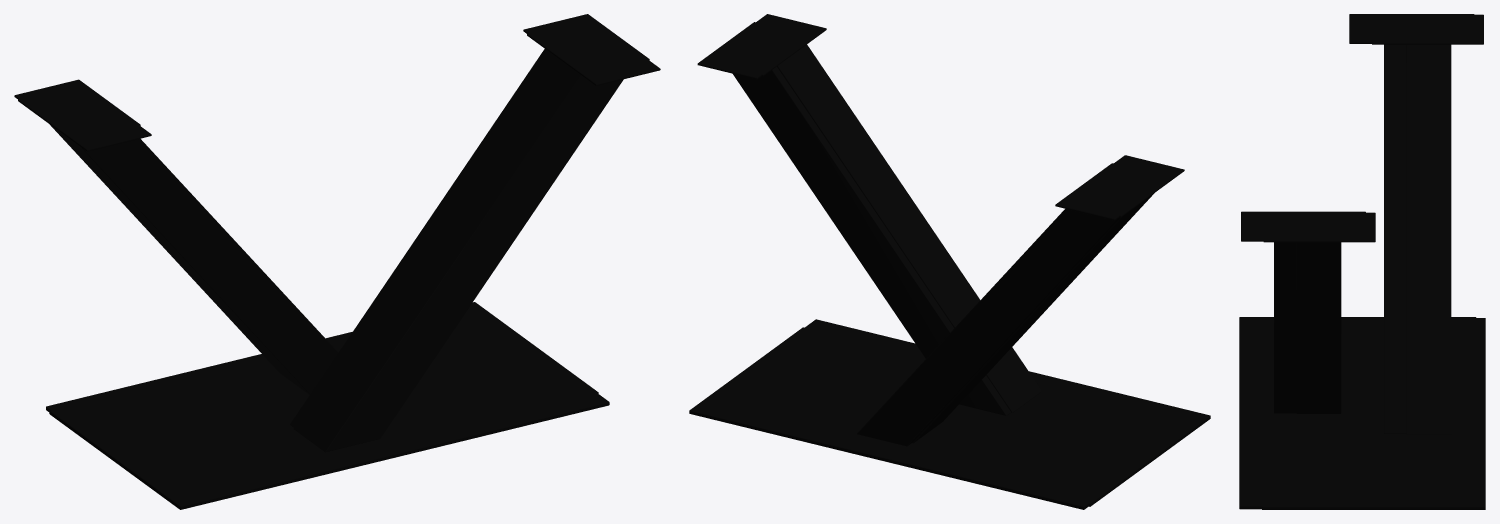
3 views of the same model, side by side, from view 1: azimuth 30°, elevation 25°; view 2: azimuth 150°, elevation 25°; view 3: azimuth 270°, elevation 25° (orthographic). The views are drawn at different scales.
Parts seen in each view (by area): view 1: Rectangle_V_Shape_LEG_ALL_SIZE, Organic_V_Shape_LEG_ALL_SIZE, Verbaan_V_Shape_LEG_ALL_SIZE, Boat_V_Shape_LEG_ALL_SIZE; view 2: Organic_V_Shape_LEG_ALL_SIZE, Boat_V_Shape_LEG_ALL_SIZE, Rectangle_V_Shape_LEG_ALL_SIZE, Verbaan_V_Shape_LEG_ALL_SIZE; view 3: Boat_V_Shape_LEG_ALL_SIZE, Verbaan_V_Shape_LEG_ALL_SIZE, Organic_V_Shape_LEG_ALL_SIZE, Rectangle_V_Shape_LEG_ALL_SIZE.
Part boxes in pixels (box(x1,y1,x2,y2)): Rectangle_V_Shape_LEG_ALL_SIZE: box(18, 18, 652, 503); Organic_V_Shape_LEG_ALL_SIZE: box(25, 63, 660, 509); Verbaan_V_Shape_LEG_ALL_SIZE: box(18, 35, 599, 503); Boat_V_Shape_LEG_ALL_SIZE: box(14, 14, 649, 427); Organic_V_Shape_LEG_ALL_SIZE: box(703, 14, 1210, 498); Boat_V_Shape_LEG_ALL_SIZE: box(689, 22, 1120, 509); Rectangle_V_Shape_LEG_ALL_SIZE: box(696, 19, 1177, 506); Verbaan_V_Shape_LEG_ALL_SIZE: box(697, 34, 1203, 506); Boat_V_Shape_LEG_ALL_SIZE: box(1262, 14, 1485, 509); Verbaan_V_Shape_LEG_ALL_SIZE: box(1253, 42, 1475, 509); Organic_V_Shape_LEG_ALL_SIZE: box(1239, 14, 1462, 509); Rectangle_V_Shape_LEG_ALL_SIZE: box(1253, 14, 1476, 509).
Size of the model in its own units: 1.2 by 0.72 by 0.5501.
6 materials, 6 textured.
